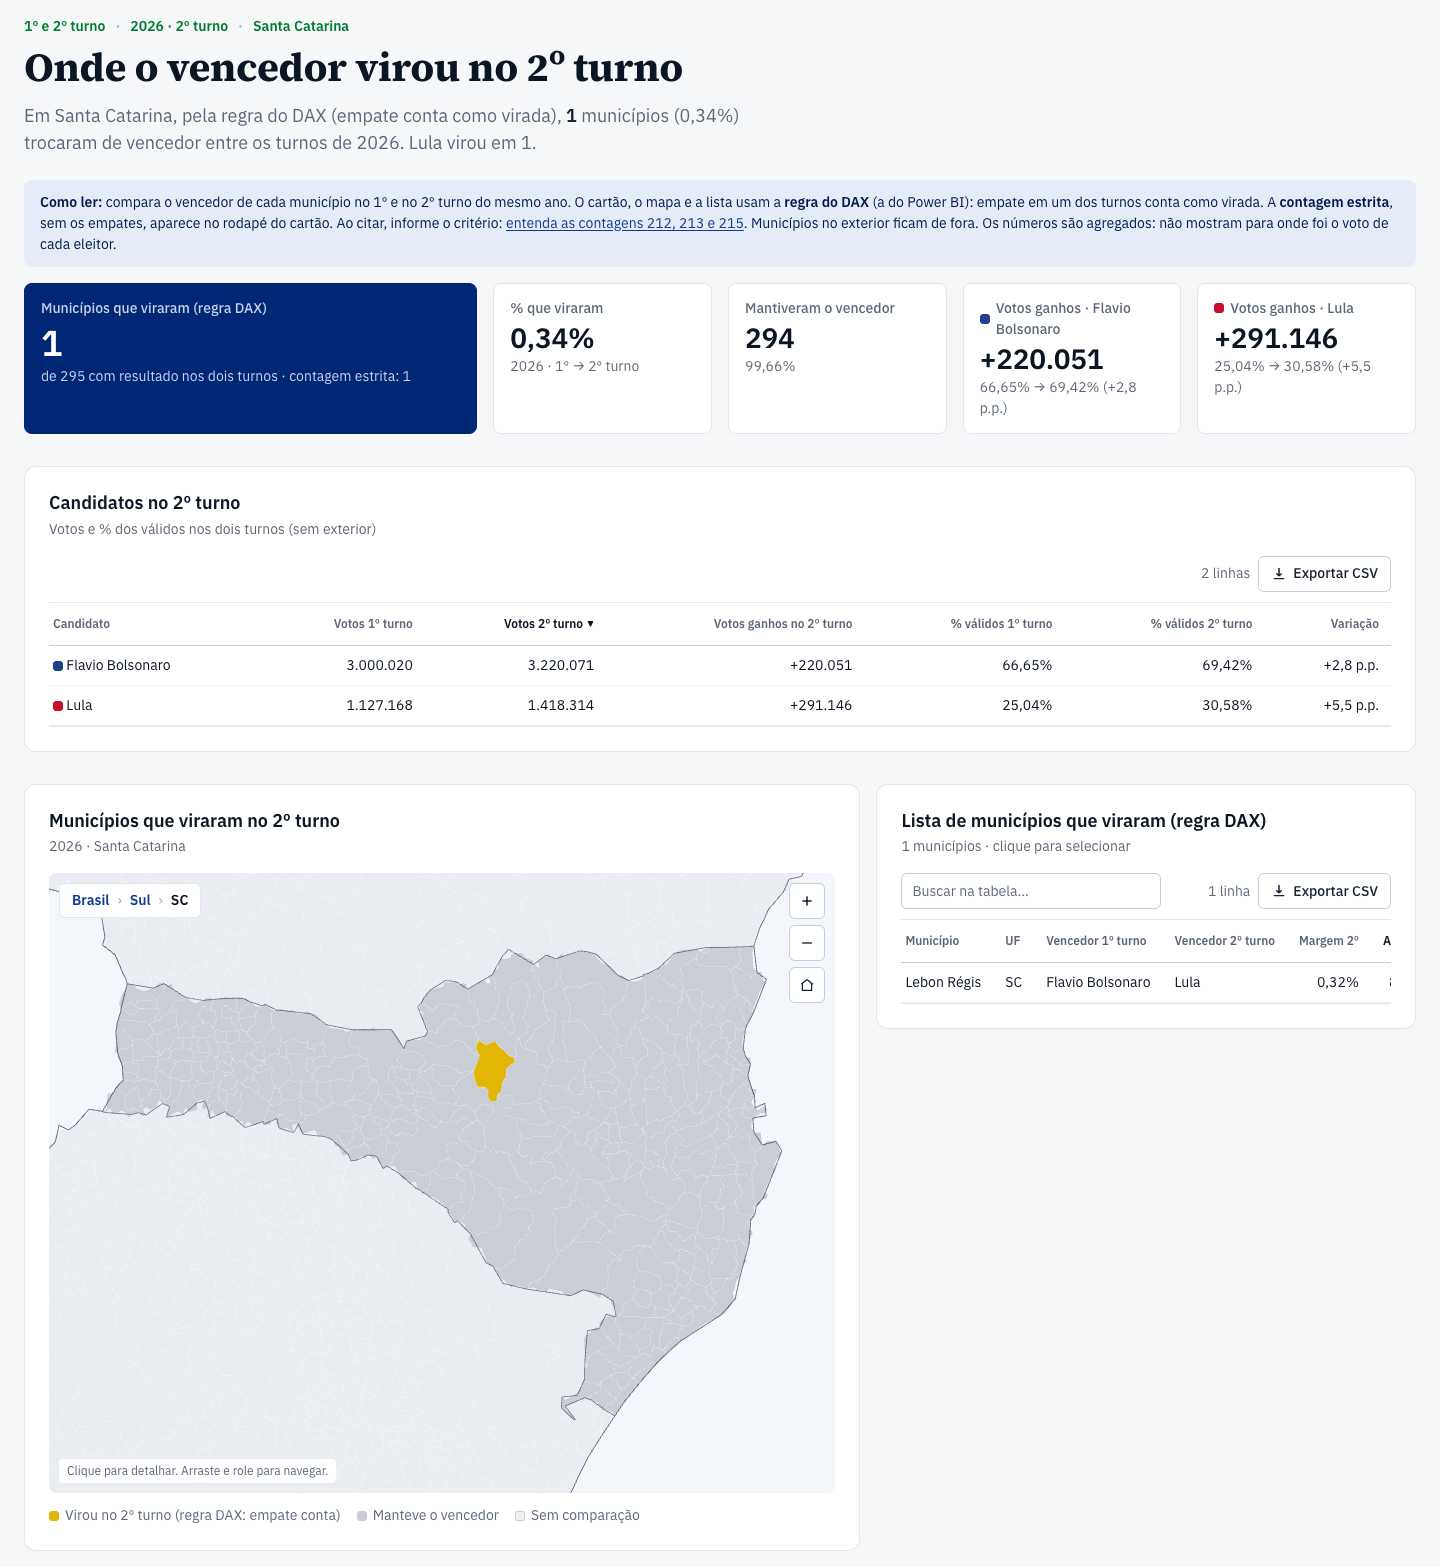

Layout of this report page (visuals, bound fields, positions):
{"tool":"powerbi","page":{"name":"Do 1º ao 2º turno","canvas":[1920,1080],"ordinal":4},"visuals":[{"type":"shape","box":[0,0,1920,96],"z":0},{"type":"shape","box":[0,96,960,6],"z":1000},{"type":"shape","box":[960,96,960,6],"z":2000},{"type":"cardVisual","fields":{"Data":["_Medidas.Título Eleição"]},"box":[36,24,756,48],"z":3000},{"type":"pageNavigator","box":[816,24,756,48],"z":4000},{"type":"slicer","fields":{"Values":["dTurno.rotulo_turno"]},"box":[1596,24,288,48],"z":5000},{"type":"cardVisual","fields":{"Data":["_Medidas.Municípios que Viraram"]},"box":[36,168,444,132],"z":6000},{"type":"cardVisual","fields":{"Data":["_Medidas.% Municípios que Viraram"]},"box":[504,168,444,132],"z":11001},{"type":"azureMap","title":"Municípios que viraram no 2º turno","fields":{"Category":["dMunicipio.local_mapa"]},"box":[36,324,912,720],"z":11002},{"type":"textbox","box":[696,960,228,60],"z":11003},{"type":"tableEx","title":"Municípios que viraram no 2º turno","fields":{"Values":["dMunicipio.municipio_uf","_Medidas.Vencedor 1º Turno","_Medidas.Vencedor 2º Turno"]},"box":[972,324,912,228],"z":11004},{"type":"tableEx","title":"Finalistas","fields":{"Values":["dCandidato.nm_urna","_Medidas.Votos 1º Turno","_Medidas.Votos 2º Turno","_Medidas.Votos Ganhos no 2º Turno","_Medidas.% Votos Válidos 1º Turno","_Medidas.% Votos Válidos 2º Turno","_Medidas.Variação entre Turnos p.p."]},"box":[972,168,912,132],"z":11005},{"type":"barChart","title":"Variação por UF (p.p.)","fields":{"Category":["dMunicipio.sg_uf"],"Series":["dCandidato.nm_urna"],"Y":["_Medidas.Variação entre Turnos p.p."]},"box":[972,576,912,468],"z":11006},{"type":"textbox","box":[36,120,1848,24],"z":12006}]}

Visuals, with their boxes on the page's 1920x1080 design canvas (x1, y1, x2, y2). These are canvas units, not pixel positions in the 1440x1567 screenshot, which may show the page scaled, cropped or inside an application window:
shape: BBox(0, 0, 1920, 96)
shape: BBox(0, 96, 960, 102)
shape: BBox(960, 96, 1920, 102)
cardVisual - _Medidas.Título Eleição: BBox(36, 24, 792, 72)
pageNavigator: BBox(816, 24, 1572, 72)
slicer - dTurno.rotulo_turno: BBox(1596, 24, 1884, 72)
cardVisual - _Medidas.Municípios que Viraram: BBox(36, 168, 480, 300)
cardVisual - _Medidas.% Municípios que Viraram: BBox(504, 168, 948, 300)
"Municípios que viraram no 2º turno" azureMap: BBox(36, 324, 948, 1044)
textbox: BBox(696, 960, 924, 1020)
"Municípios que viraram no 2º turno" tableEx: BBox(972, 324, 1884, 552)
"Finalistas" tableEx: BBox(972, 168, 1884, 300)
"Variação por UF (p.p.)" barChart: BBox(972, 576, 1884, 1044)
textbox: BBox(36, 120, 1884, 144)
